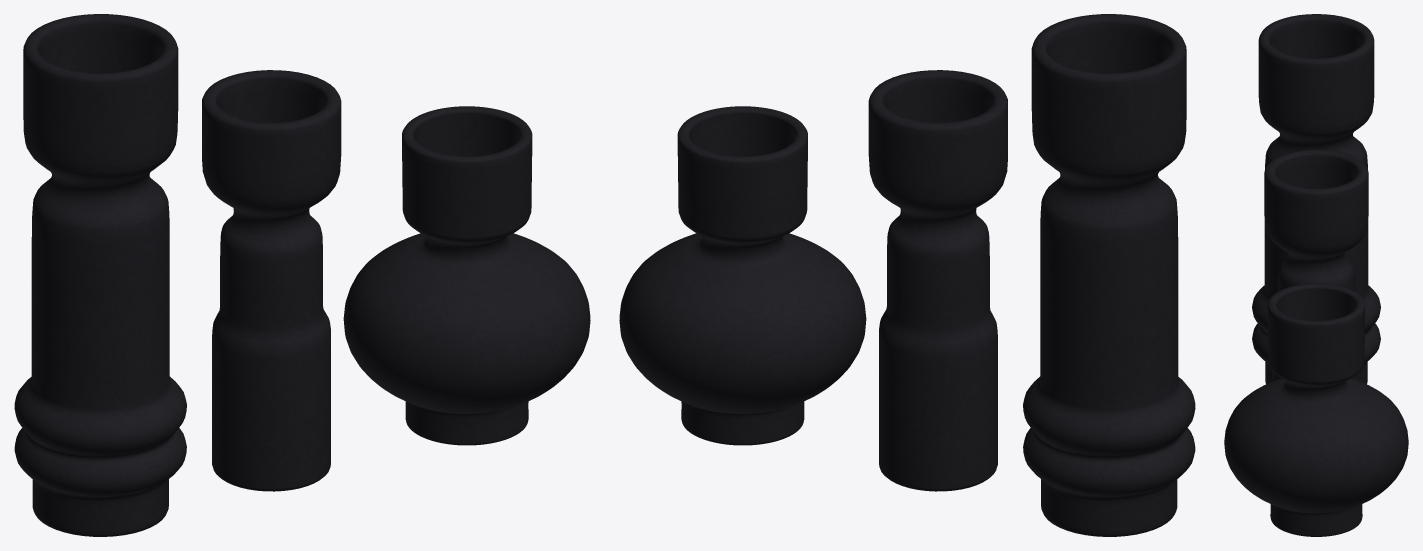
File: B0831PPZY6.glb
3 views of the same model, side by side, from view 1: azimuth 30°, elevation 25°; view 2: azimuth 150°, elevation 25°; view 3: azimuth 270°, elevation 25° (orthographic). The views are drawn at different scales.
Parts seen in each view (by area): view 1: RootNode; view 2: RootNode; view 3: RootNode.
Boxes of the visible parts, bbox=[...] form: RootNode: bbox=[14, 14, 590, 536]; RootNode: bbox=[619, 14, 1195, 536]; RootNode: bbox=[1224, 14, 1408, 536].
Size of the model in its own units: 0.3067 by 0.2488 by 0.1196.
Materials: 1 (1 with a texture image).
